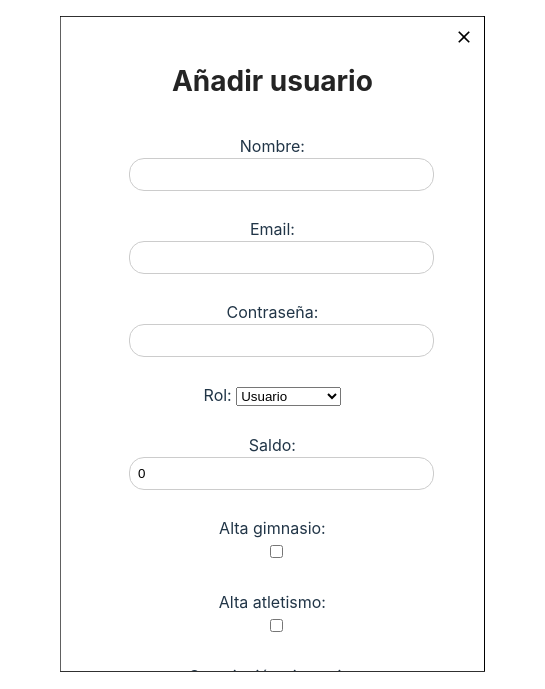
it: AdminModalUsers Component › Input Validation and Error Messages › shows error message for empty Email field
Type "Test User" into the field labelled "Nombre:". click: [281, 174]
box: x1=129 y1=158 x2=433 y2=191
(page scrolled)
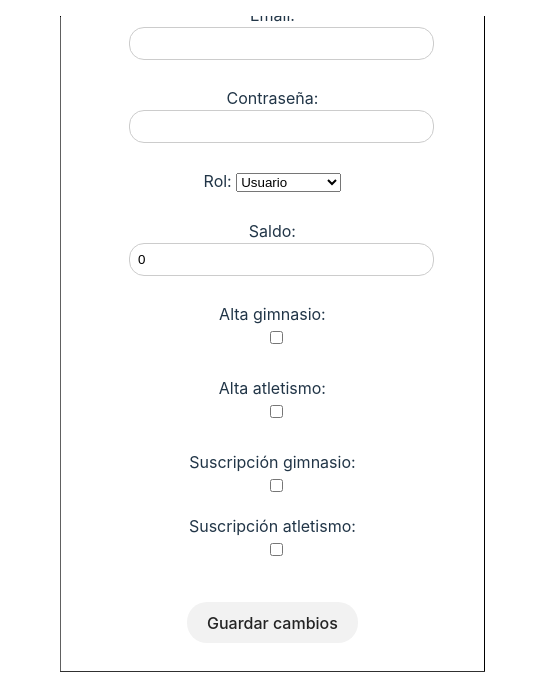
Click the button "Guardar cambios". click: [272, 623]
box: x1=186 y1=602 x2=358 y2=643
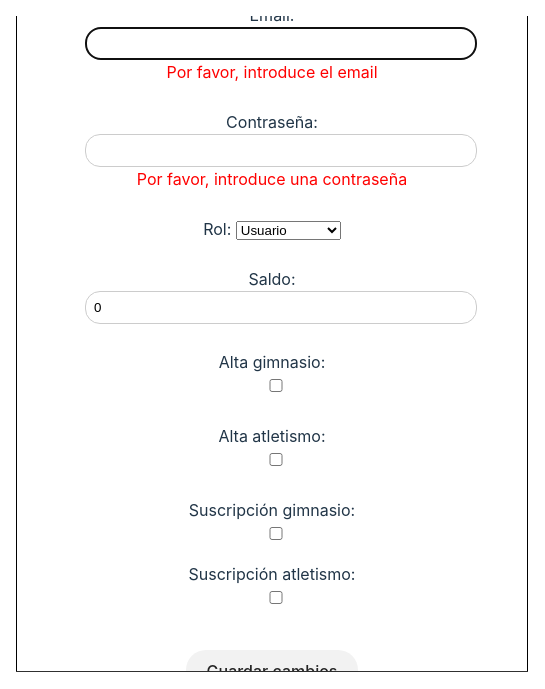
Now the text "Por favor, introduce el email" is shown, box x1=166 y1=62 x2=378 y2=82
